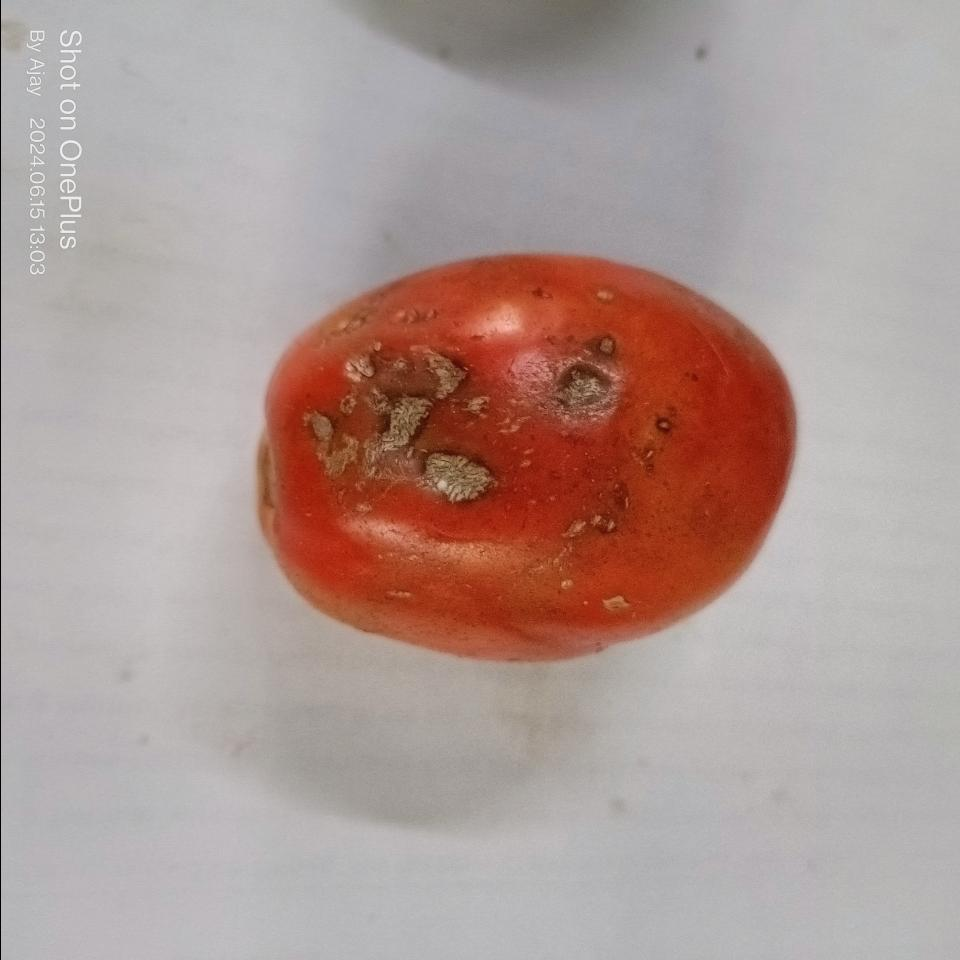Bacterial_Spot: (506, 335, 622, 423), (418, 447, 496, 503), (422, 340, 468, 401), (376, 398, 418, 448), (341, 342, 382, 382), (564, 514, 618, 539), (306, 412, 338, 442), (379, 455, 415, 478), (600, 594, 630, 610), (342, 438, 360, 463), (653, 418, 673, 430)
